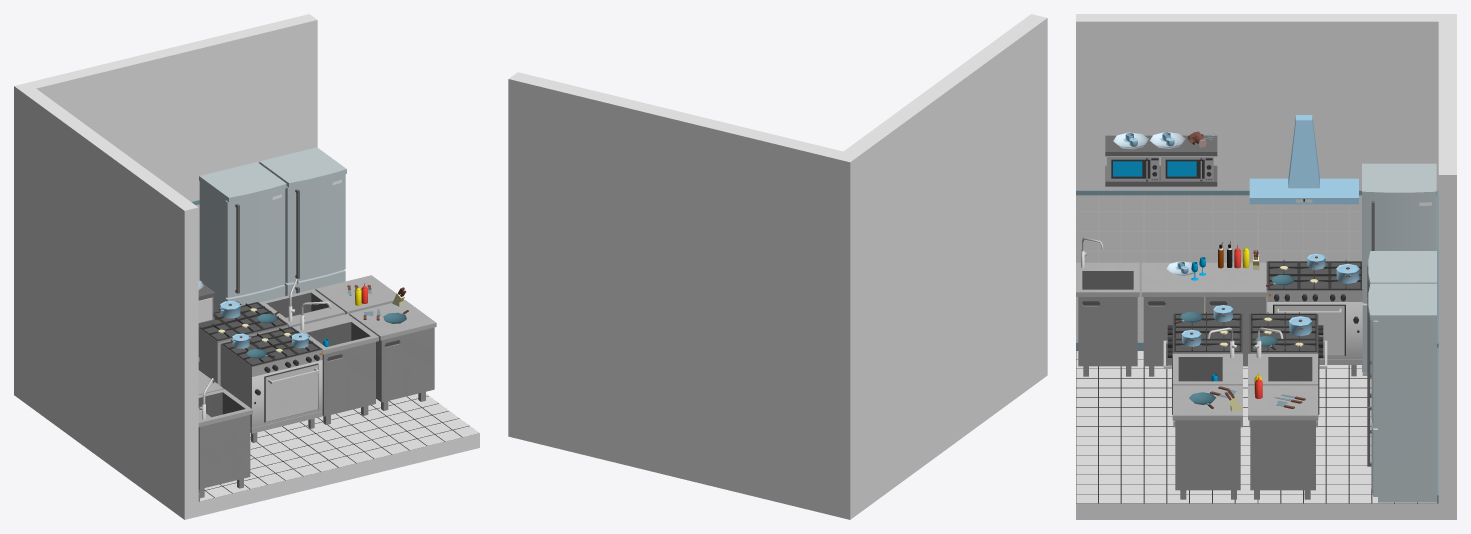
Rendered from room_26.glb.
The picture shows the model from 3 angles, left to right: view 1: azimuth 30°, elevation 25°; view 2: azimuth 150°, elevation 25°; view 3: azimuth 270°, elevation 25°; orthographic projection. The views are drawn at different scales.
Visible parts, largest first — view 1: Walls_006.014, Walls_006.012, kitchen_item_020.004, kitchen_item_020.003, kitchen_item_035.001, floor_014.006, Walls_011.016, kitchen_item_037.001, kitchen_item_036.001, kitchen_item_037.003, floor_014.003, kitchen_item_035.002 (+2 smaller); view 2: Walls_006.012, Walls_006.014; view 3: Walls_006.014, kitchen_item_020.003, floor_014.009, Walls_011.016, Walls_006.012, floor_014.006, kitchen_item_020.005, kitchen_item_036.002, kitchen_item_036.001, kitchen_item_037.003, kitchen_item_035.003, floor_014.003 (+18 smaller).
Boxes of the visible parts, x1,y1,x2,y2 form: Walls_006.014: [14, 82, 198, 519]; Walls_006.012: [28, 14, 317, 272]; kitchen_item_020.004: [199, 162, 286, 312]; kitchen_item_020.003: [259, 147, 346, 295]; kitchen_item_035.001: [220, 326, 323, 442]; floor_014.006: [283, 393, 479, 467]; Walls_011.016: [198, 396, 479, 516]; kitchen_item_037.001: [293, 301, 378, 424]; kitchen_item_036.001: [349, 300, 436, 410]; kitchen_item_037.003: [198, 378, 252, 498]; floor_014.003: [200, 426, 337, 501]; kitchen_item_035.002: [198, 302, 288, 385]; Walls_006.012: [508, 72, 842, 515]; Walls_006.014: [834, 14, 1047, 519]; Walls_006.014: [1076, 14, 1456, 341]; kitchen_item_020.003: [1367, 283, 1436, 502]; floor_014.009: [1076, 195, 1257, 341]; Walls_011.016: [1076, 351, 1438, 519]; Walls_006.012: [1438, 21, 1456, 519]; floor_014.006: [1076, 427, 1257, 503]; kitchen_item_020.005: [1362, 163, 1436, 375]; kitchen_item_036.002: [1248, 385, 1318, 499]; kitchen_item_036.001: [1172, 385, 1242, 499]; kitchen_item_037.003: [1076, 237, 1139, 376]; kitchen_item_035.003: [1266, 260, 1362, 376]; floor_014.003: [1076, 351, 1249, 426].
Bounding box in the file's own units: 4.2 × 4.2 × 4.2.
Materials: 1 (1 with a texture image).
